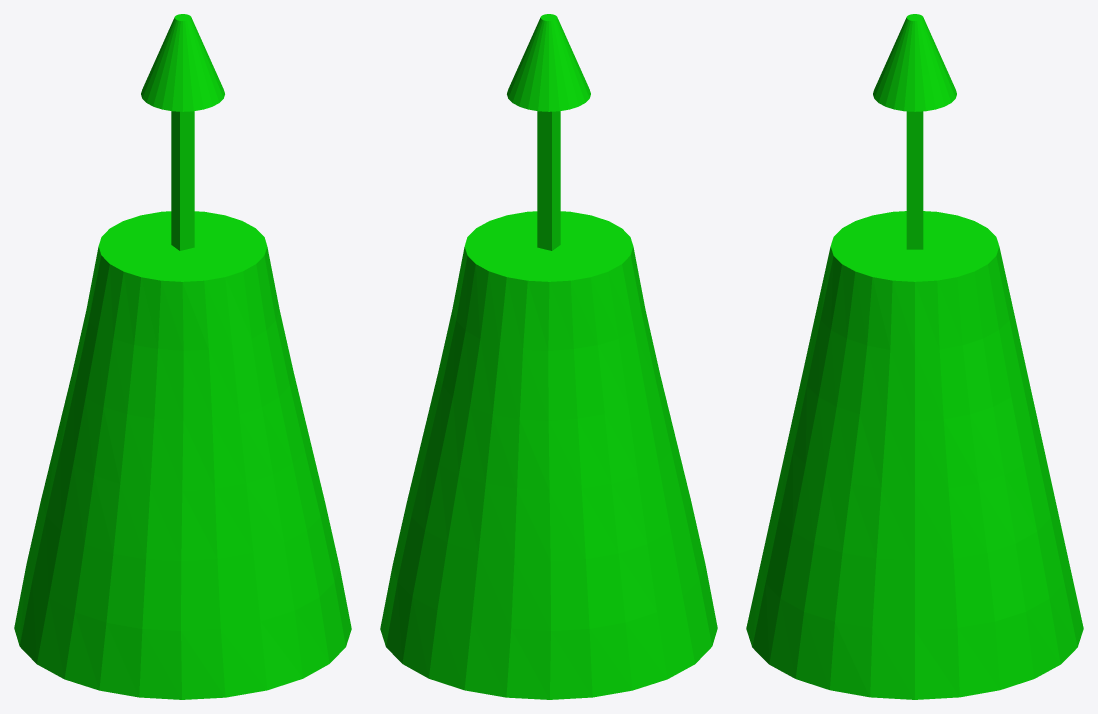
File: latGreen.dae
The picture shows the model from 3 angles, left to right: view 1: azimuth 30°, elevation 25°; view 2: azimuth 150°, elevation 25°; view 3: azimuth 270°, elevation 25°; orthographic projection.
Visible parts, largest first — view 1: Cone01-FAC; view 2: Cone01-FAC; view 3: Cone01-FAC.
Part boxes in pixels (x1=…): Cone01-FAC: x1=14, y1=14, x2=351, y2=699; Cone01-FAC: x1=380, y1=14, x2=717, y2=699; Cone01-FAC: x1=746, y1=14, x2=1083, y2=699.
Bounding box in the file's own units: 1.02 × 1.02 × 2.03.
